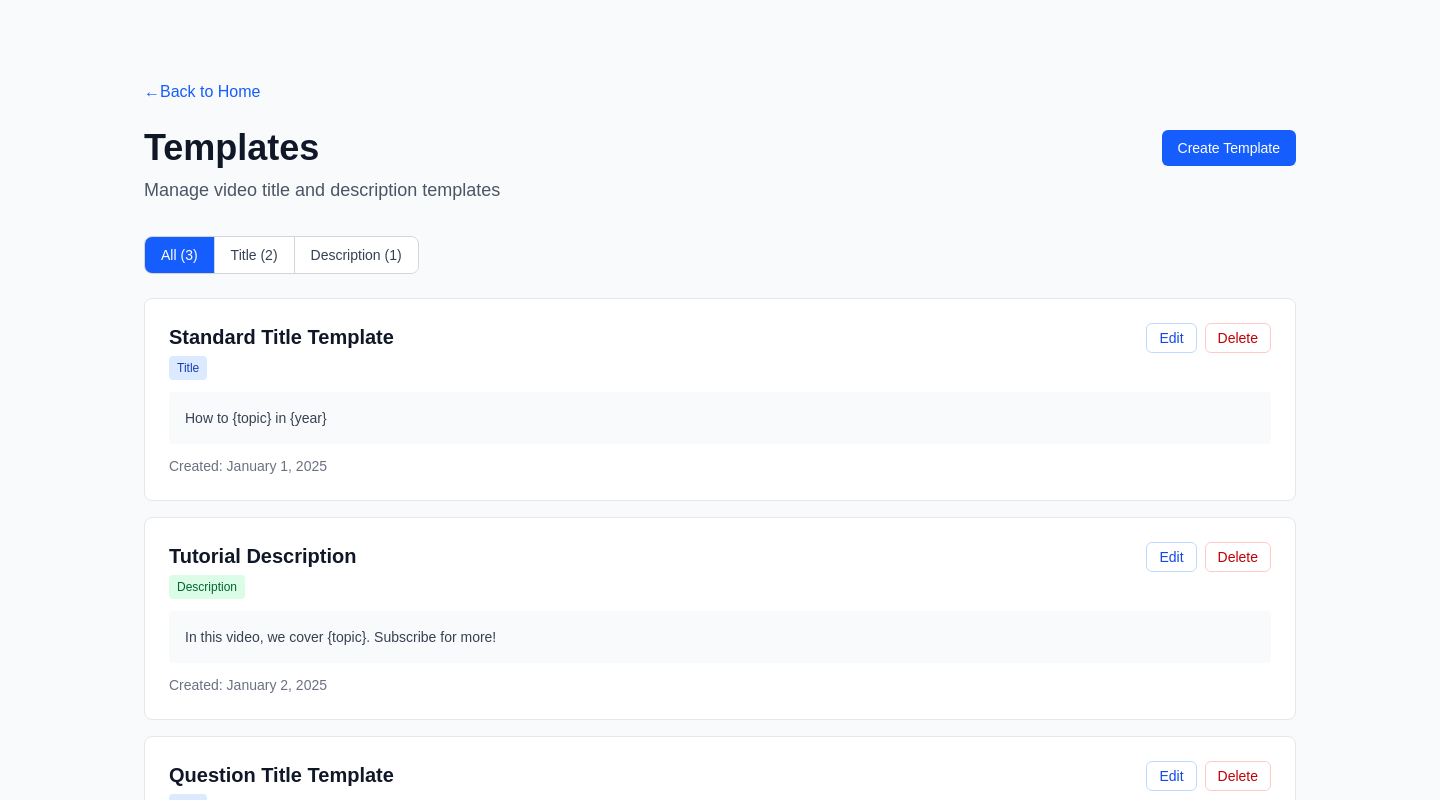
Test case: TemplatesPage › Template Filtering › should return to all templates when All button clicked
expect the heading "Standard Title Template" is shown: met, box [169,326,394,348]
Click the button "Title (2)" at (254, 255), box [214,237,294,273]
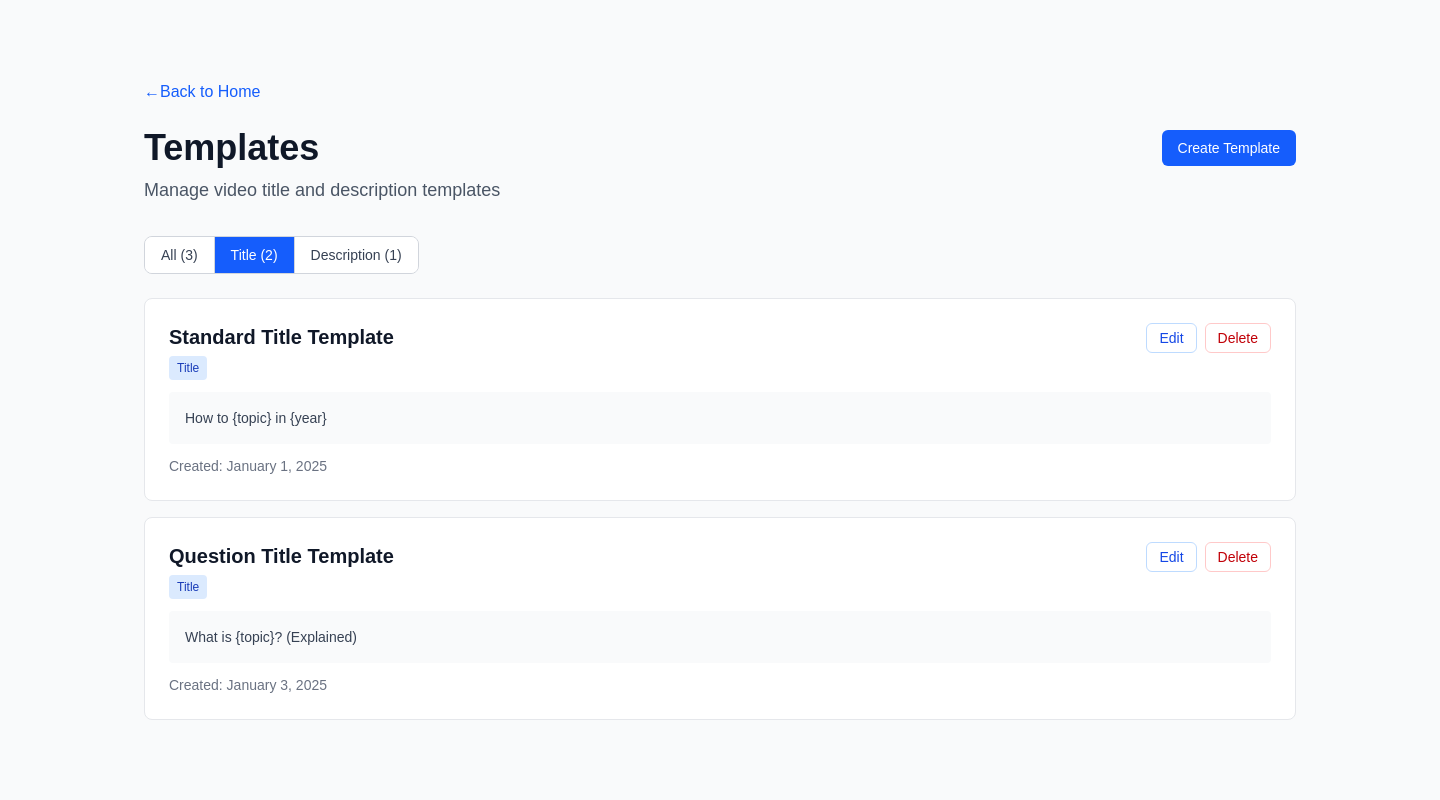
Click the button "All (3)" at (179, 255), box [145,237,214,273]
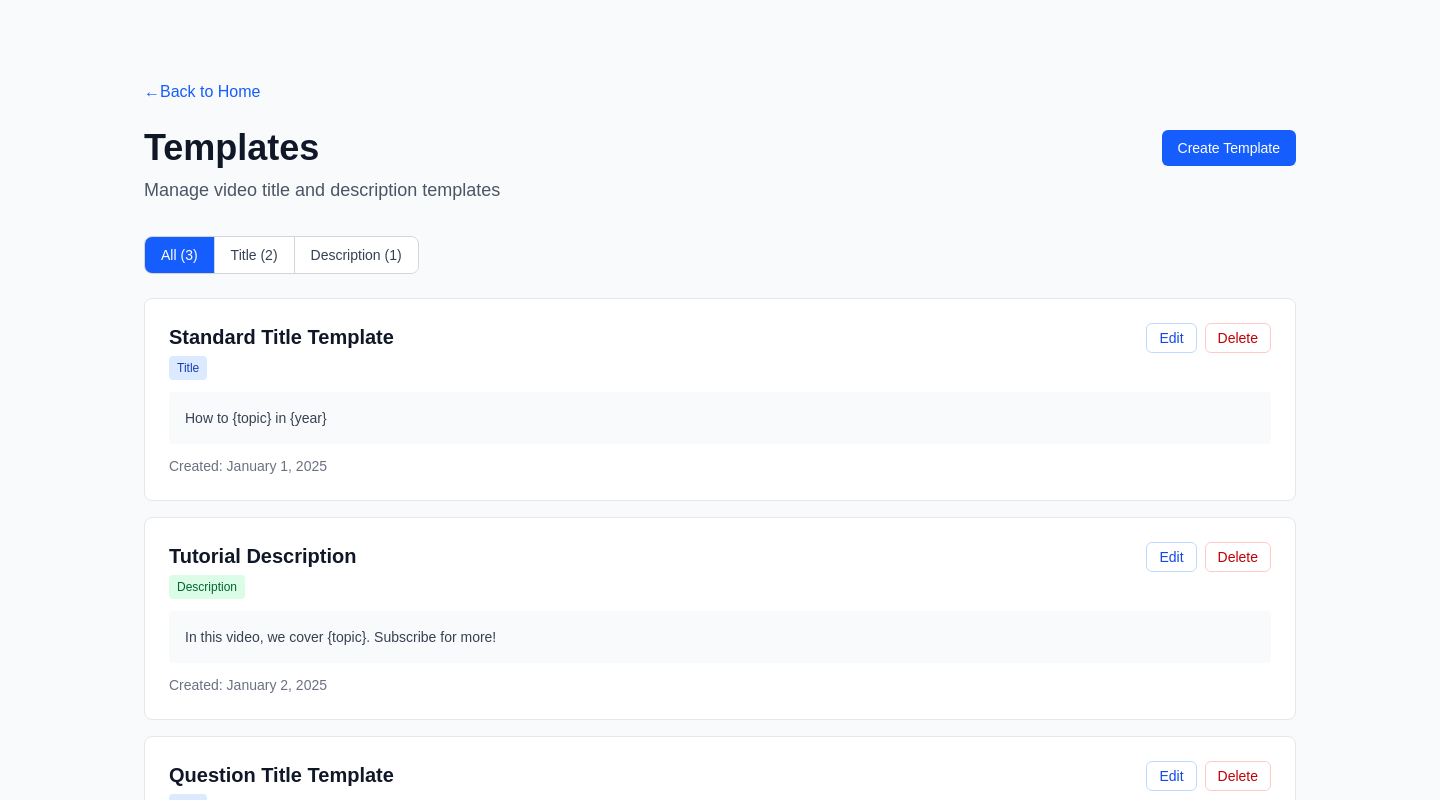
expect the heading "Standard Title Template" is shown: met, box [169,326,394,348]
expect the heading "Tutorial Description" is shown: met, box [169,545,356,567]
